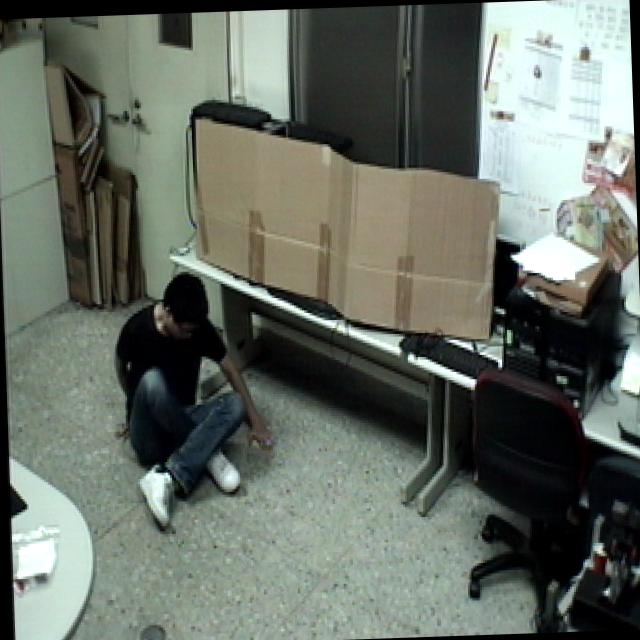sit: (100, 262, 274, 532)
